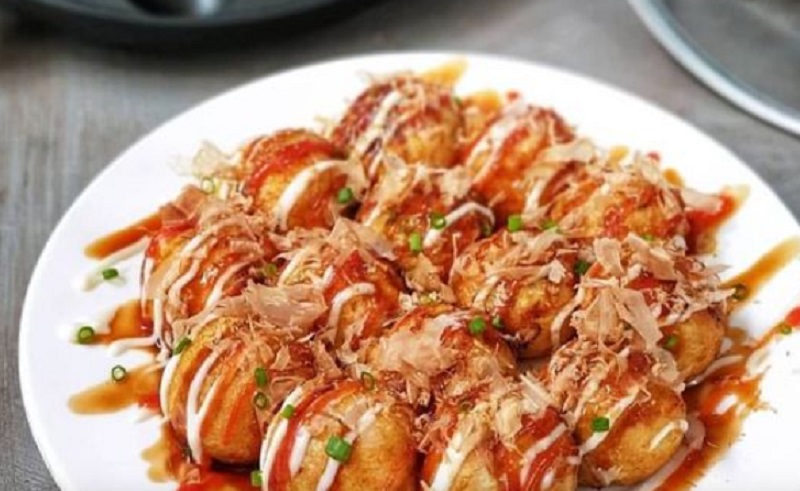takoyaki: (48, 45, 800, 491)
